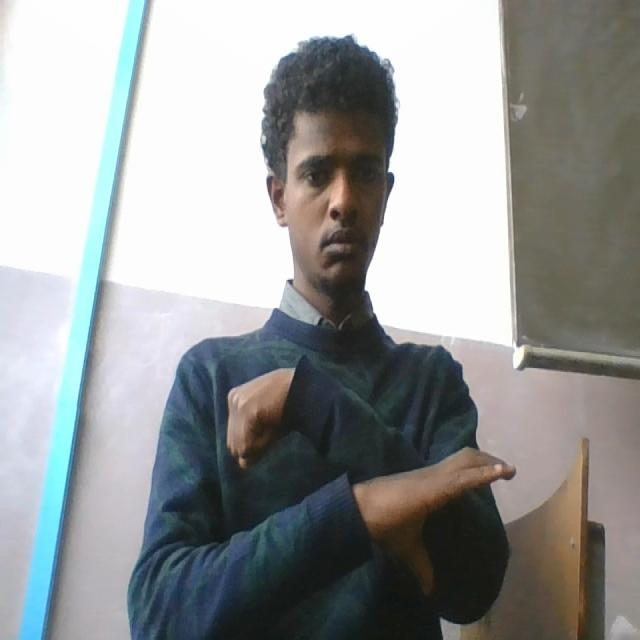hager: (217, 356, 522, 614)
